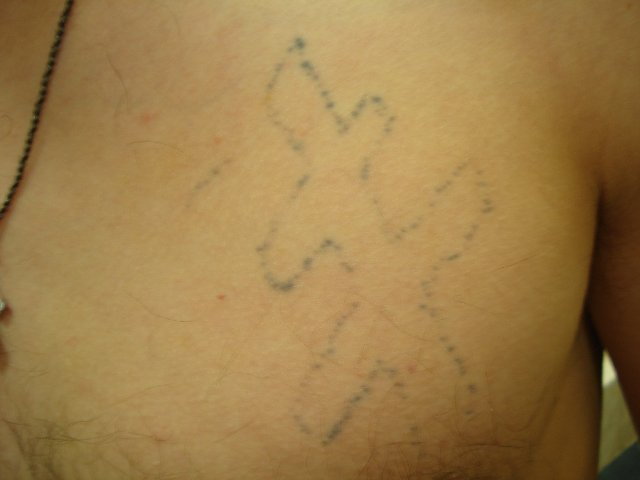tatu9_krest: (196, 35, 526, 445)
